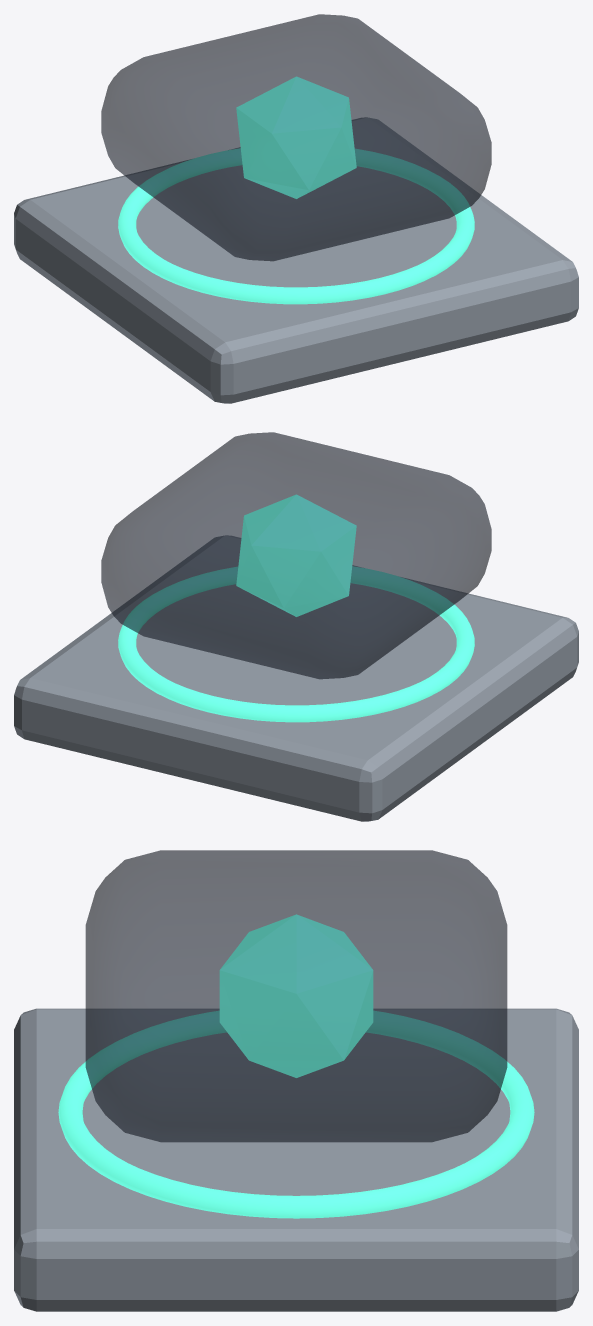
File: glass_key.glb
3 renders of one model, top to bottom at view 1: azimuth 30°, elevation 25°; view 2: azimuth 150°, elevation 25°; view 3: azimuth 270°, elevation 25°, orthographic. The views are drawn at different scales.
Parts seen in each view (by area): view 1: lumen_key_bezel, lumen_key_cap, lumen_key_glow, lumen_key_core; view 2: lumen_key_bezel, lumen_key_cap, lumen_key_glow, lumen_key_core; view 3: lumen_key_bezel, lumen_key_cap, lumen_key_glow, lumen_key_core.
Part boxes in pixels (box(x1,y1,x2,y2)): lumen_key_bezel: box(14, 117, 578, 403); lumen_key_cap: box(101, 14, 491, 261); lumen_key_glow: box(118, 148, 474, 304); lumen_key_core: box(236, 76, 356, 198); lumen_key_bezel: box(14, 535, 578, 821); lumen_key_cap: box(101, 432, 491, 679); lumen_key_glow: box(118, 566, 474, 722); lumen_key_core: box(236, 494, 356, 616); lumen_key_bezel: box(14, 1008, 578, 1311); lumen_key_cap: box(85, 850, 507, 1142); lumen_key_glow: box(58, 1011, 534, 1218); lumen_key_core: box(219, 914, 373, 1077).
Bounding box in the file's own units: 0.075 × 0.042 × 0.075.
